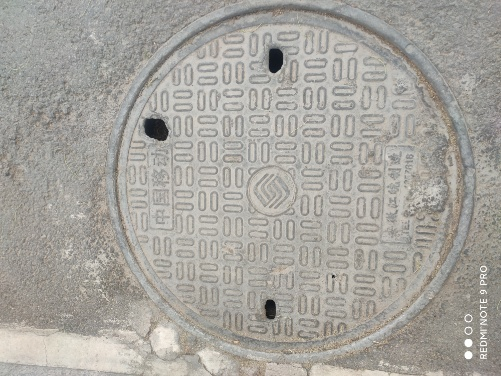broke: (106, 1, 477, 366)
